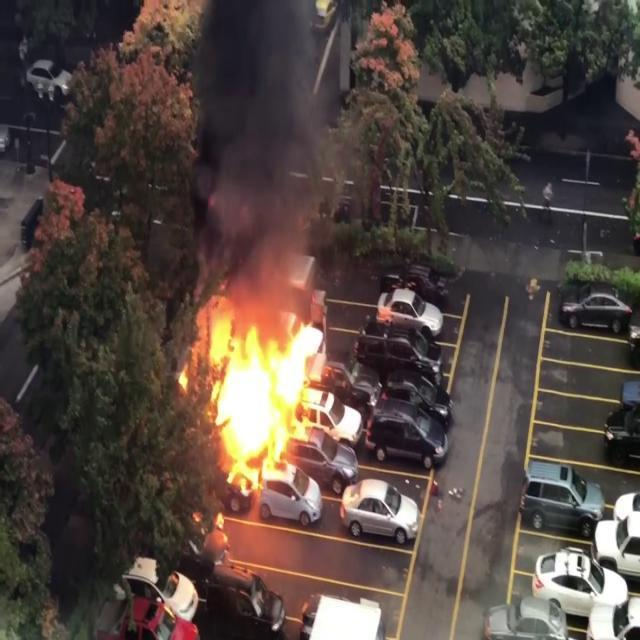Fire: (184, 300, 340, 490)
Smoke: (177, 0, 349, 300)
